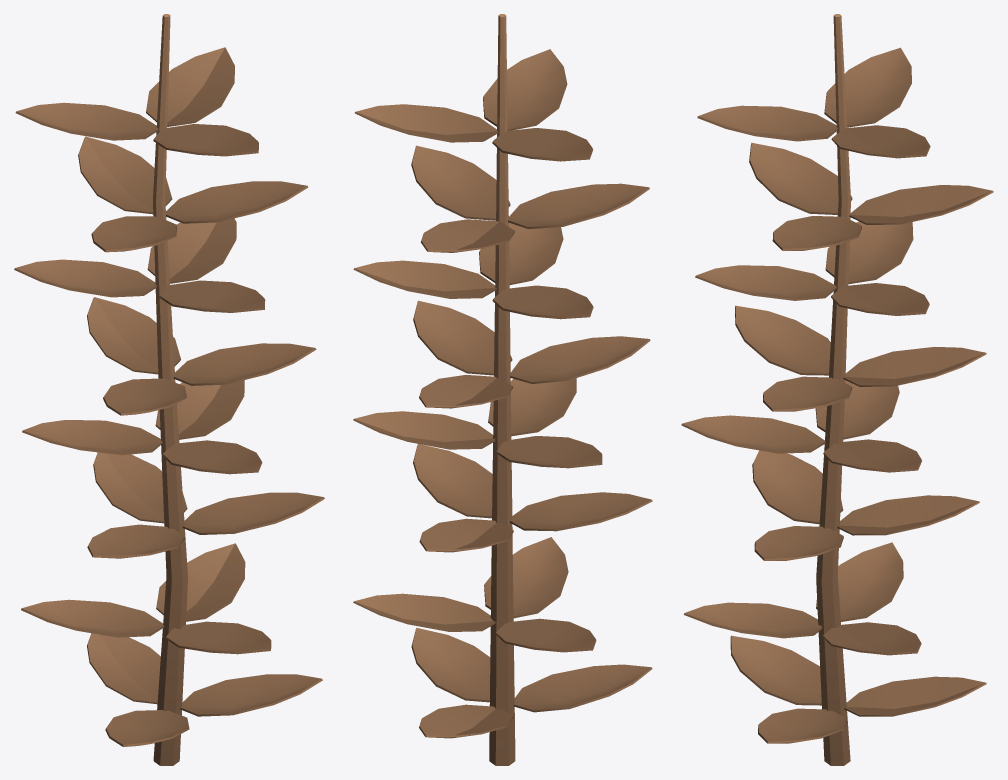
Rendered from Seaweed_02.fbx.
3 renders of one model, left to right at view 1: azimuth 30°, elevation 25°; view 2: azimuth 150°, elevation 25°; view 3: azimuth 270°, elevation 25°, orthographic.
Parts seen in each view (by area): view 1: Seaweed_02_LOD0; view 2: Seaweed_02_LOD0; view 3: Seaweed_02_LOD0.
Boxes of the visible parts, x1,y1,x2,y2 form: Seaweed_02_LOD0: (14,14,324,765); Seaweed_02_LOD0: (353,14,652,765); Seaweed_02_LOD0: (681,14,993,765).
Size of what is drawn, in the model's own units: 0.3365 by 0.9827 by 0.3731.
